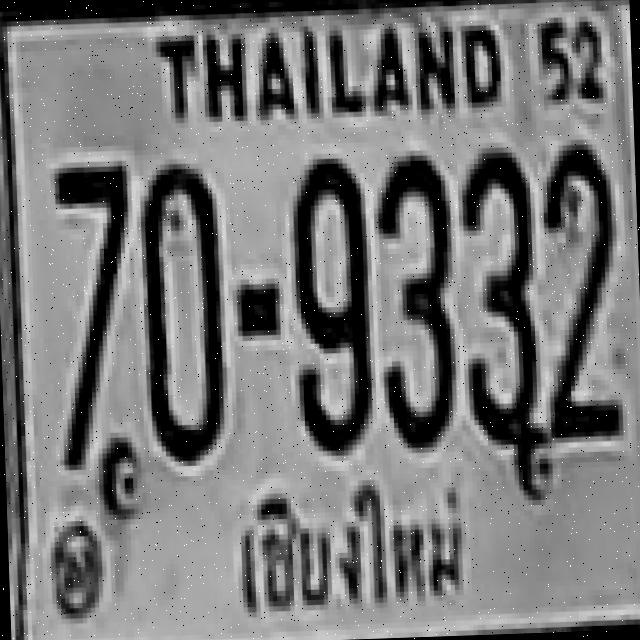0: (136, 160, 228, 454)
2: (538, 138, 618, 382)
3: (456, 147, 538, 446), (372, 157, 454, 446)
7: (50, 160, 132, 332)
9: (287, 157, 369, 451), (288, 188, 369, 451)
ChiangMai: (215, 468, 482, 620)
